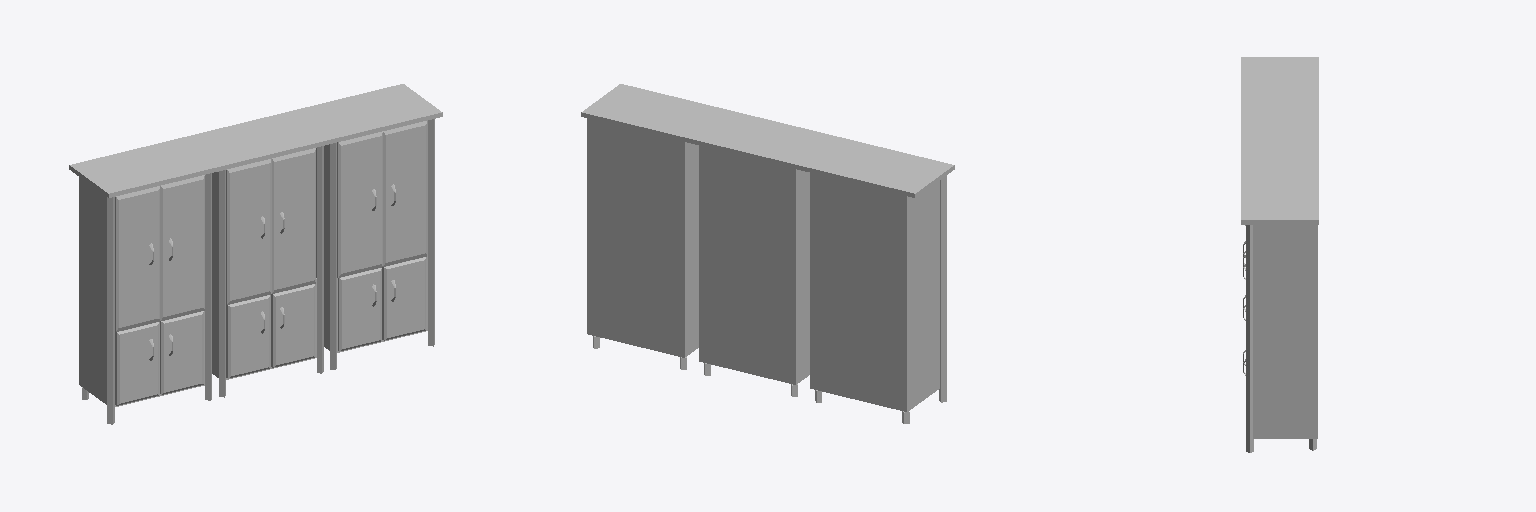
File: LV_cabinet.obj
The picture shows the model from 3 angles: view 1: azimuth 30°, elevation 25°; view 2: azimuth 150°, elevation 25°; view 3: azimuth 270°, elevation 25°; orthographic projection.
Parts seen in each view (by area): view 1: sweethome3d_window_pane_left_521; view 2: sweethome3d_window_pane_left_521; view 3: sweethome3d_window_pane_left_521.
Boxes of the visible parts, x1=… form: sweethome3d_window_pane_left_521: x1=69, y1=84, x2=442, y2=424; sweethome3d_window_pane_left_521: x1=581, y1=84, x2=954, y2=423; sweethome3d_window_pane_left_521: x1=1241, y1=57, x2=1318, y2=452.
Bounding box in the file's own units: 3.64 × 2.44 × 0.7409.